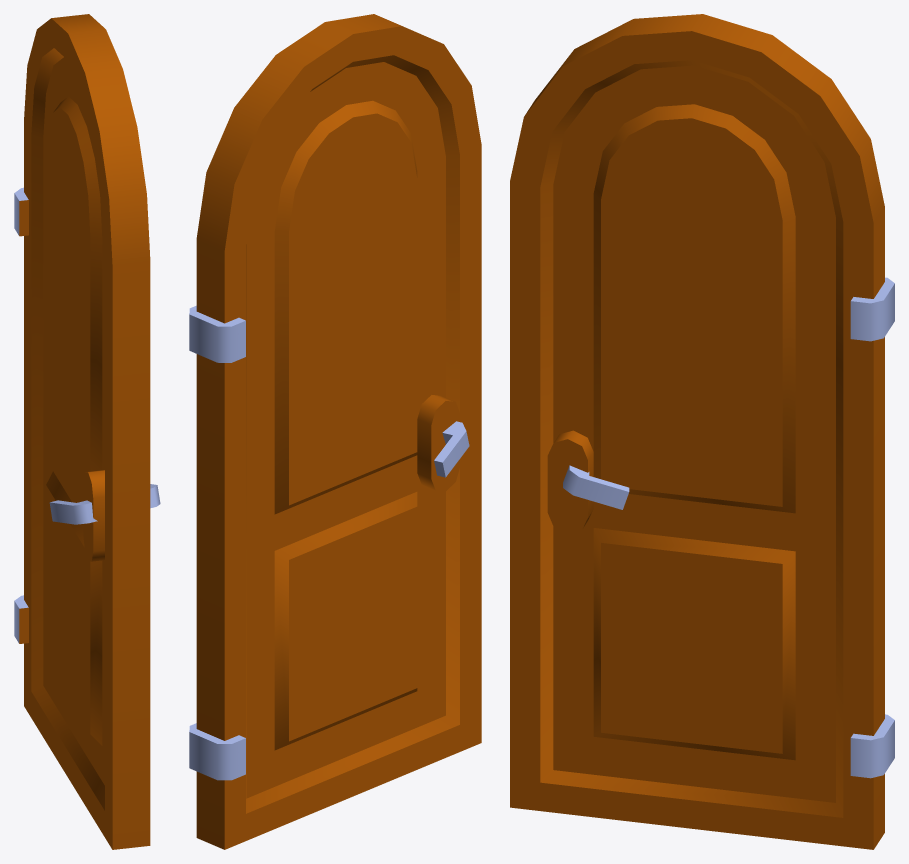
Rendered from Door2.fbx.
The picture shows the model from 3 angles, left to right: view 1: azimuth 30°, elevation 25°; view 2: azimuth 150°, elevation 25°; view 3: azimuth 270°, elevation 25°; orthographic projection. The views are drawn at different scales.
Visible parts, largest first — view 1: door.002, handle.002; view 2: door.002, handle.002; view 3: door.002, handle.002.
Part boxes in pixels (box(x1,y1,x2,y2)): door.002: box(14, 14, 150, 849); handle.002: box(49, 484, 160, 524); door.002: box(189, 14, 481, 849); handle.002: box(434, 421, 469, 477); door.002: box(510, 14, 894, 849); handle.002: box(563, 465, 629, 509).
Size of the model in its own units: 51.57 by 273 by 119.
